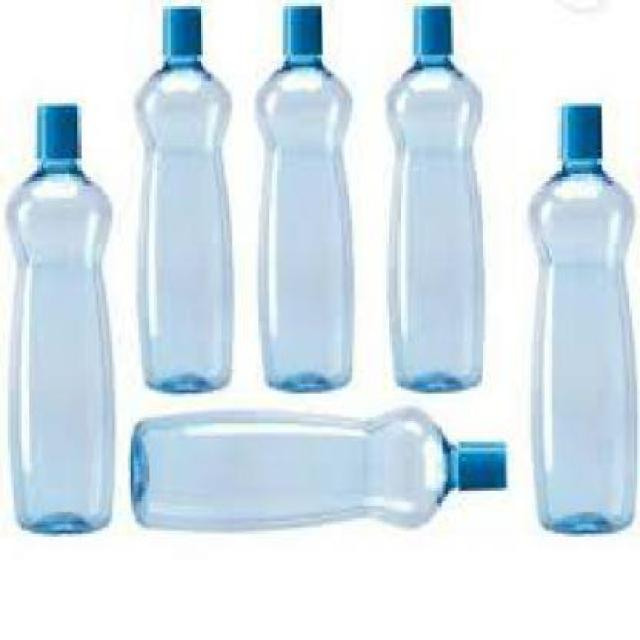Drinking: (518, 92, 638, 533), (5, 95, 114, 536), (378, 0, 491, 400), (133, 0, 241, 391), (269, 8, 357, 406)
